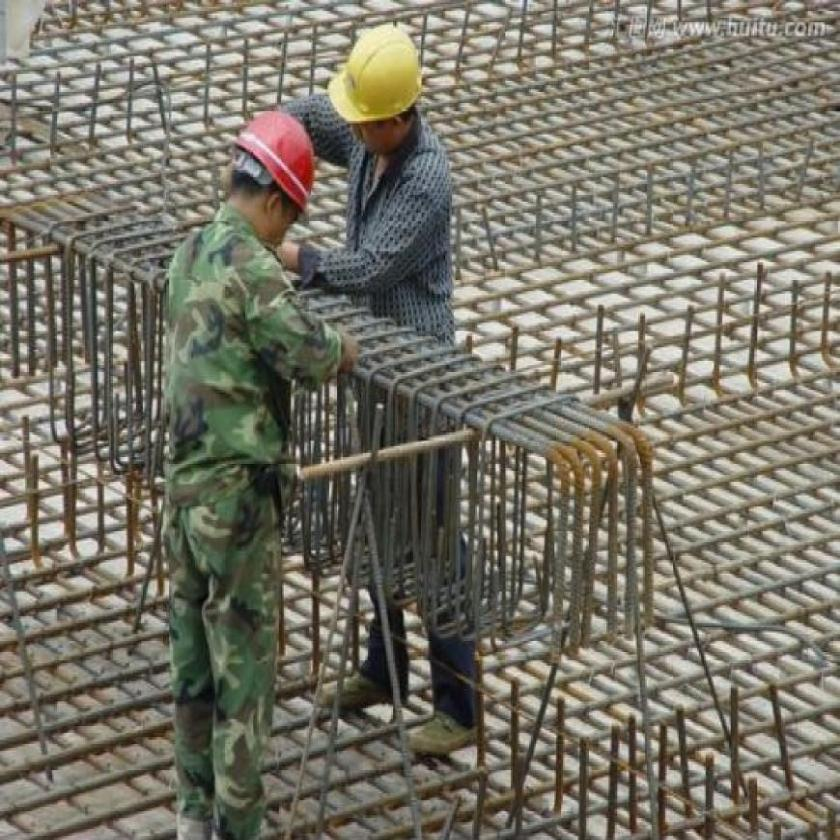Con_casco: (231, 110, 319, 263), (337, 23, 434, 160)
